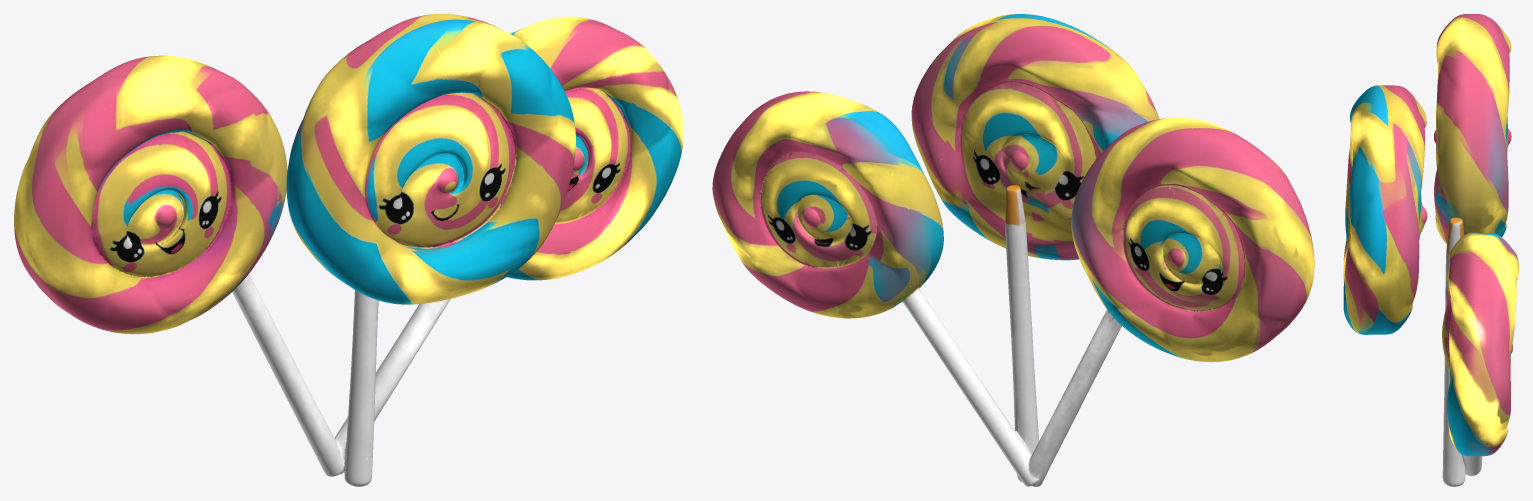
The model's file is lollipop1_final.glb.
3 views of the same model, side by side, from view 1: azimuth 30°, elevation 25°; view 2: azimuth 150°, elevation 25°; view 3: azimuth 270°, elevation 25° (orthographic). The views are drawn at different scales.
Bounding box in the file's own units: 1.9 × 1.33 × 0.5302.
1 material, 1 textured.
